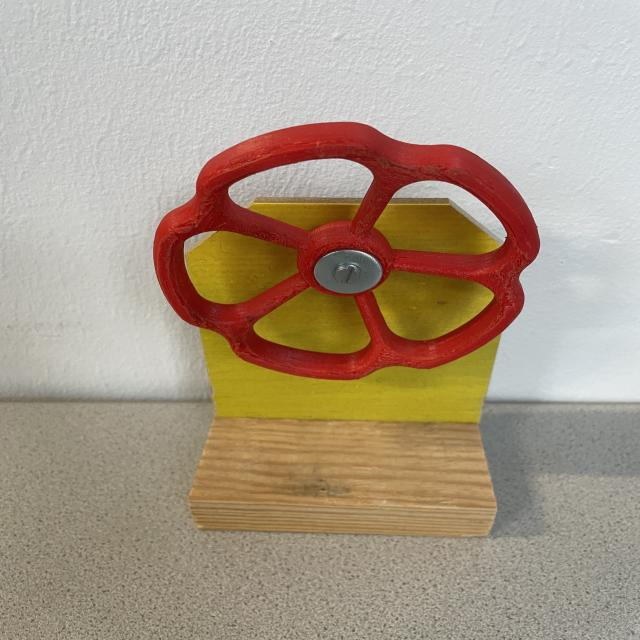Wheel Handle Valve Threaded: (144, 119, 546, 385)
